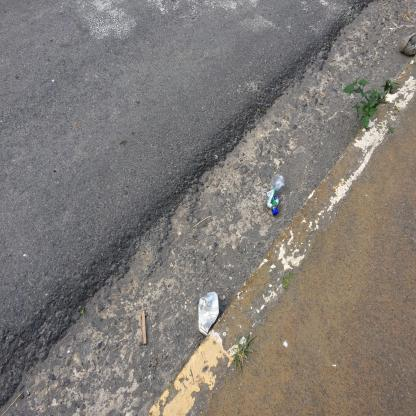Metal: (198, 291, 219, 336)
Plastic: (267, 174, 285, 215)
Waste: (272, 209, 278, 215), (389, 27, 393, 30)
